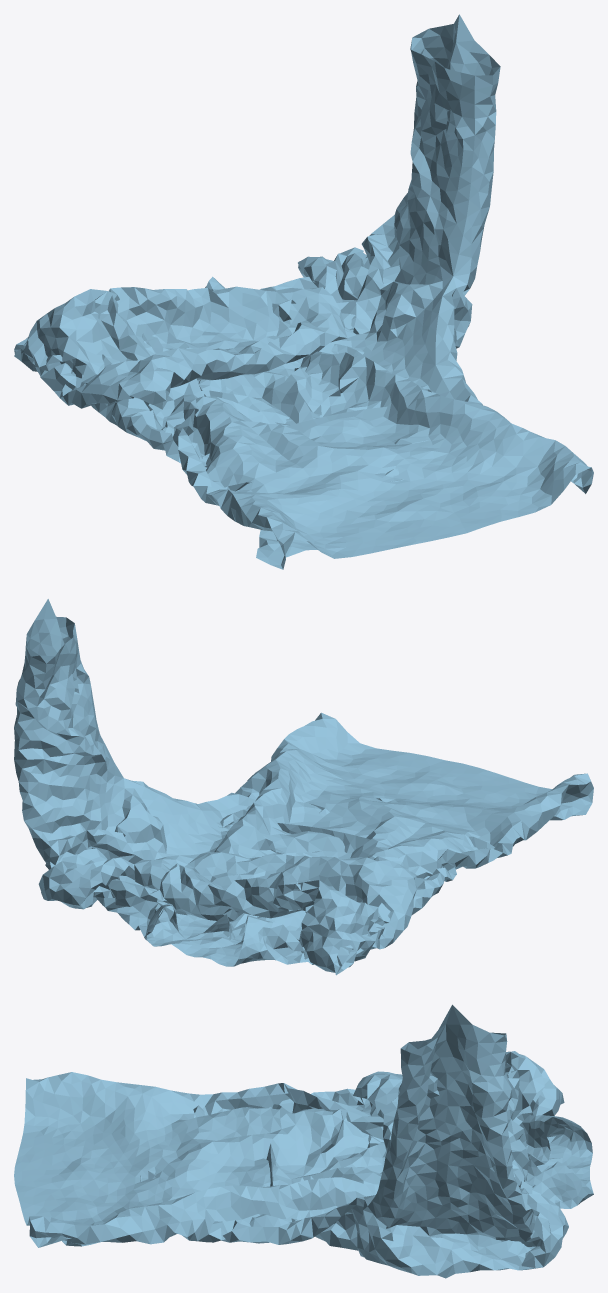
File: frame_07.glb
3 views of the same model, one above another, from view 1: azimuth 30°, elevation 25°; view 2: azimuth 150°, elevation 25°; view 3: azimuth 270°, elevation 25° (orthographic). The views are drawn at different scales.
Visible parts, largest first — view 1: frame_07.obj; view 2: frame_07.obj; view 3: frame_07.obj.
Boxes of the visible parts, <box> form: frame_07.obj: <box>14,14,593,569</box>; frame_07.obj: <box>14,599,593,975</box>; frame_07.obj: <box>14,1004,593,1278</box>.
Bounding box in the file's own units: 1.15 × 0.7897 × 1.43.
